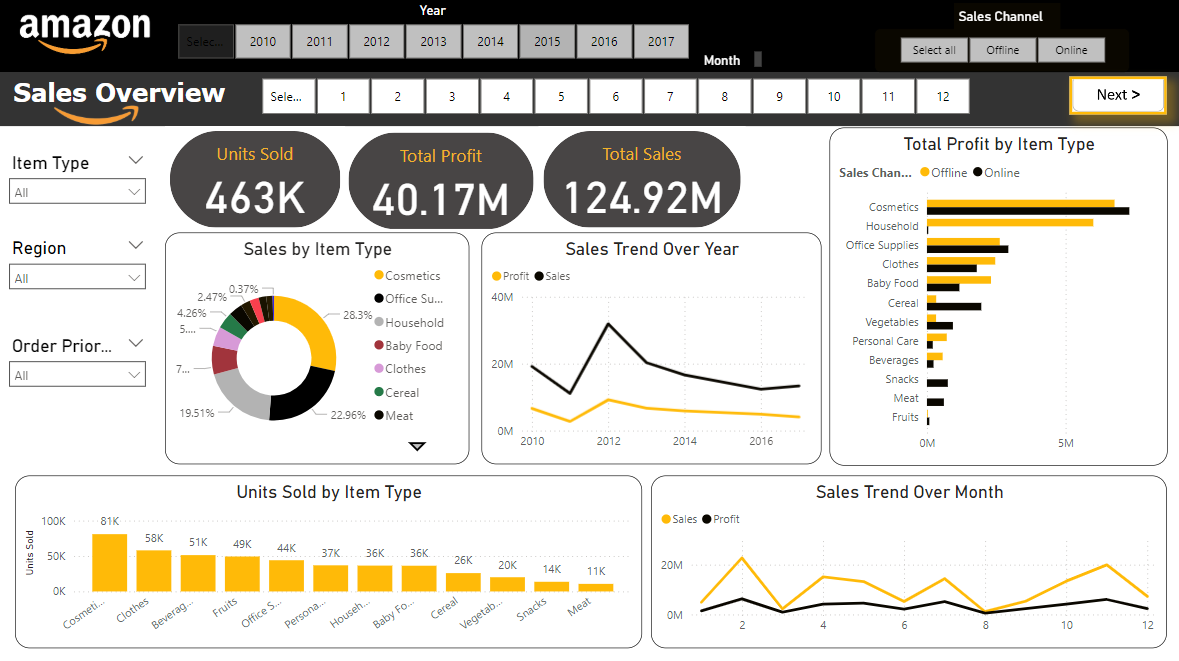

The dashboard page shown, as its layout file describes it:
{"tool":"powerbi","page":{"name":"Amazon Sales Overview","canvas":[1280,720],"ordinal":0},"visuals":[{"type":"textbox","box":[0,81.3,1280.1,58.6],"z":0},{"type":"shape","box":[0,0,1280.1,81.3],"z":1000},{"type":"textbox","box":[0,81.3,258.6,52],"z":2000},{"type":"image","box":[16.3,8.1,152.9,73.2],"z":3000},{"type":"image","box":[29.3,81.3,139.9,104.1],"z":4000},{"type":"slicer","title":"Year","fields":{"Values":["Sheet1 (2).Year"]},"box":[168.3,6.7,603.3,66.7],"z":5000},{"type":"slicer","fields":{"Values":["Sheet1 (2).Month"]},"box":[258.6,81.3,816.5,52],"z":6000},{"type":"textbox","box":[758,53.7,73.2,27.7],"z":7000},{"type":"cardVisual","fields":{"Data":["Sum(Sheet1 (2).Total Profit)"]},"box":[372.5,141.5,211.5,115.5],"z":8000},{"type":"cardVisual","fields":{"Data":["Sum(Sheet1 (2).Units Sold)"]},"box":[178.9,139.9,195.2,115.5],"z":9000},{"type":"cardVisual","fields":{"Data":["Sum(Sheet1 (2).Total Sales)"]},"box":[583.9,139.9,224.5,115.5],"z":10000},{"type":"slicer","fields":{"Values":["Sheet1 (2).Sales Channel"]},"box":[948.3,34.2,276.5,47.2],"z":11000},{"type":"lineChart","title":"Sales Trend Over Year","fields":{"Category":["Sheet1 (2).Year"],"Y":["Sum(Sheet1 (2).Total Profit)","Sum(Sheet1 (2).Total Sales)"]},"box":[522.5,255.2,368.6,251.1],"z":12000},{"type":"clusteredBarChart","title":"Total Profit by Item Type","fields":{"Category":["Sheet1 (2).Item Type"],"Y":["Sum(Sheet1 (2).Total Profit)"],"Series":["Sheet1 (2).Sales Channel"]},"box":[899.2,141.8,366.6,366.6],"z":13000},{"type":"lineChart","title":"Sales Trend Over Month","fields":{"Y":["Sum(Sheet1 (2).Total Sales)","Sum(Sheet1 (2).Total Profit)"],"Category":["Sheet1 (2).Month"]},"box":[705.9,518.9,559.5,187.1],"z":14000},{"type":"textbox","box":[1034.5,6.5,115.5,35.8],"z":15000},{"type":"donutChart","fields":{"Category":["Sheet1 (2).Item Type"],"Y":["Sum(Sheet1 (2).Total Sales)"]},"box":[178.2,255.2,330.1,251.1],"z":16000},{"type":"columnChart","fields":{"Y":["Sum(Sheet1 (2).Units Sold)"],"Category":["Sheet1 (2).Item Type"]},"box":[16.3,518.9,679.9,187.1],"z":17000},{"type":"actionButton","box":[1159.6,85.8,105.6,41.2],"z":18000},{"type":"slicer","fields":{"Values":["Sheet1 (2).Region"]},"box":[0,255.2,168.1,70.9],"z":19000},{"type":"slicer","fields":{"Values":["Sheet1 (2).Item Type"]},"box":[0,162,168.1,70.9],"z":20000},{"type":"slicer","fields":{"Values":["Sheet1 (2).Order Priority"]},"box":[0,360.5,168.1,70.9],"z":21000}]}

Visuals, with their boxes in screenshot pixels (x1, y1, x2, y2), scaled from the page's 1280x720 canvas onto the 1179x661 screenshot:
textbox: locate(0, 75, 1178, 128)
shape: locate(0, 0, 1178, 75)
textbox: locate(0, 75, 238, 122)
image: locate(15, 7, 156, 75)
image: locate(27, 75, 156, 170)
"Year" slicer: locate(155, 6, 711, 67)
slicer - Sheet1 (2).Month: locate(238, 75, 990, 122)
textbox: locate(698, 49, 766, 75)
cardVisual - Sum(Sheet1 (2).Total Profit): locate(343, 130, 538, 236)
cardVisual - Sum(Sheet1 (2).Units Sold): locate(165, 128, 345, 234)
cardVisual - Sum(Sheet1 (2).Total Sales): locate(538, 128, 745, 234)
slicer - Sheet1 (2).Sales Channel: locate(873, 31, 1128, 75)
"Sales Trend Over Year" lineChart: locate(481, 234, 821, 465)
"Total Profit by Item Type" clusteredBarChart: locate(828, 130, 1166, 467)
"Sales Trend Over Month" lineChart: locate(650, 476, 1166, 648)
textbox: locate(953, 6, 1059, 39)
donutChart - Sheet1 (2).Item Type x Sum(Sheet1 (2).Total Sales): locate(164, 234, 468, 465)
columnChart - Sum(Sheet1 (2).Units Sold) x Sheet1 (2).Item Type: locate(15, 476, 641, 648)
actionButton: locate(1068, 79, 1165, 117)
slicer - Sheet1 (2).Region: locate(0, 234, 155, 299)
slicer - Sheet1 (2).Item Type: locate(0, 149, 155, 214)
slicer - Sheet1 (2).Order Priority: locate(0, 331, 155, 396)
